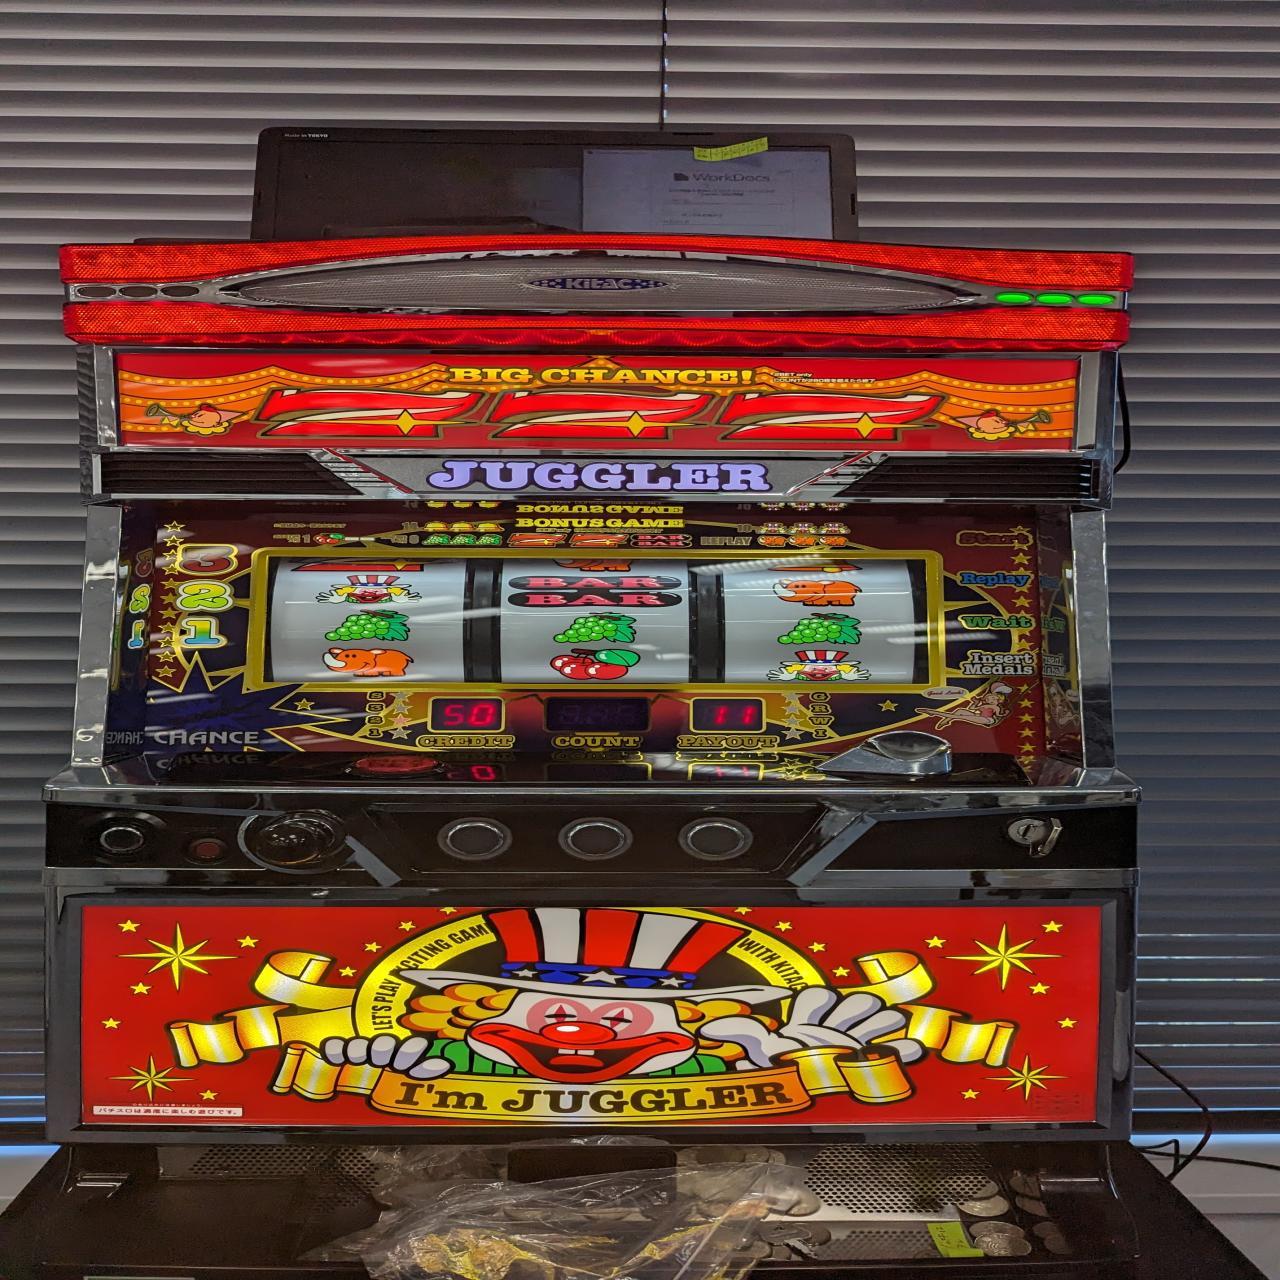8: (319, 647, 415, 676), (774, 579, 863, 607)
Display: (263, 552, 939, 690)
bar: (508, 576, 681, 607)
cherry: (547, 648, 641, 682)
clown: (767, 649, 870, 682), (315, 574, 421, 605)
grape: (552, 611, 640, 646), (772, 612, 865, 645), (324, 608, 411, 642)
